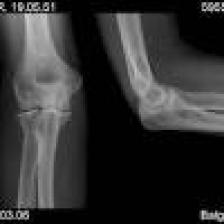impacted-fracture: (0, 11, 224, 208)
